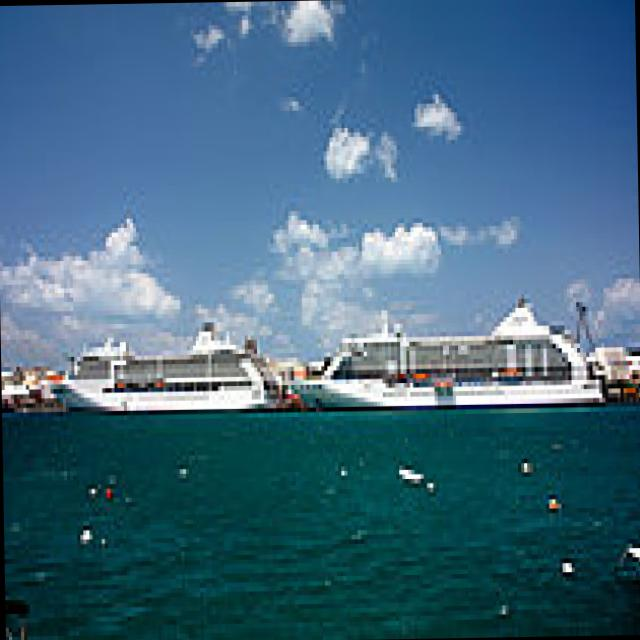boat: (307, 317, 628, 411), (55, 325, 296, 412)
